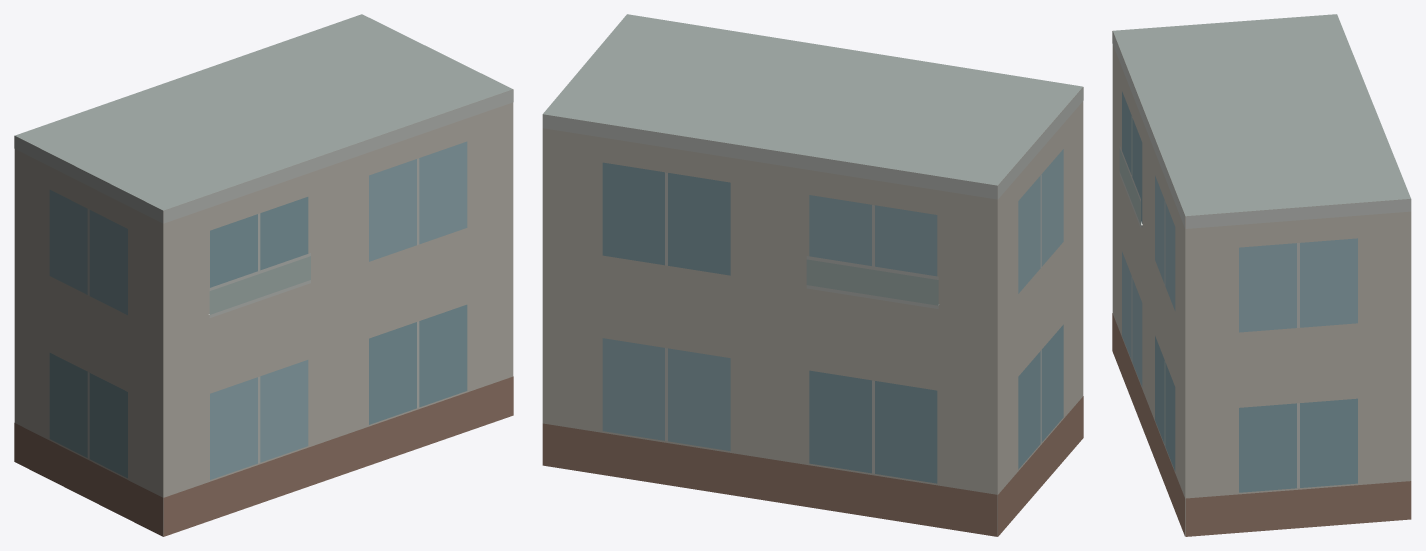
File: survey-upis-32608902.glb
The picture shows the model from 3 angles, left to right: view 1: azimuth 30°, elevation 25°; view 2: azimuth 150°, elevation 25°; view 3: azimuth 270°, elevation 25°; orthographic projection. The views are drawn at different scales.
Parts seen in each view (by area): view 1: survey-upis-32608902.tmp; view 2: survey-upis-32608902.tmp; view 3: survey-upis-32608902.tmp.
Part boxes in pixels (x1,y1,x2,y2): survey-upis-32608902.tmp: (14, 14, 513, 536); survey-upis-32608902.tmp: (542, 14, 1083, 536); survey-upis-32608902.tmp: (1112, 14, 1411, 536).
Bounding box in the file's own units: 8.26 × 6.1 × 5.16.
